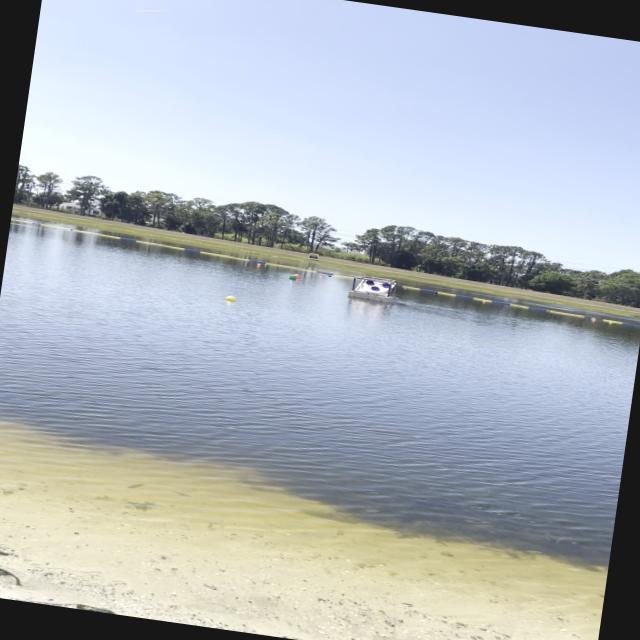buoy: (225, 294, 237, 302), (289, 275, 297, 280), (293, 274, 301, 278), (256, 263, 262, 266), (433, 292, 438, 295), (609, 321, 613, 324), (482, 300, 487, 302), (320, 274, 324, 276), (264, 264, 268, 266), (328, 275, 332, 277), (404, 286, 408, 288), (592, 318, 596, 320)
